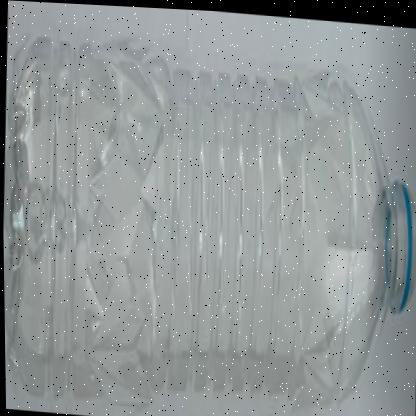open bottle: (311, 19, 416, 416)
